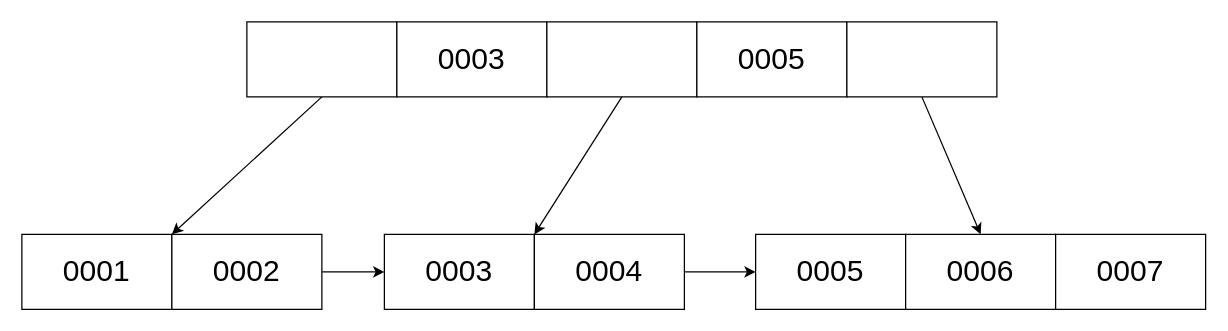
This 1228x331 diagram has some shape labels left out. The box of each missing label's shape, as (x1, y1, x2, y2) in pixels:
大于等于0005数据 的磁盘地址: (846, 21, 997, 97)
小于0003数据 的磁盘地址: (246, 21, 397, 97)
小于0005数据 且大于0003数据 的磁盘地址: (546, 21, 697, 97)
